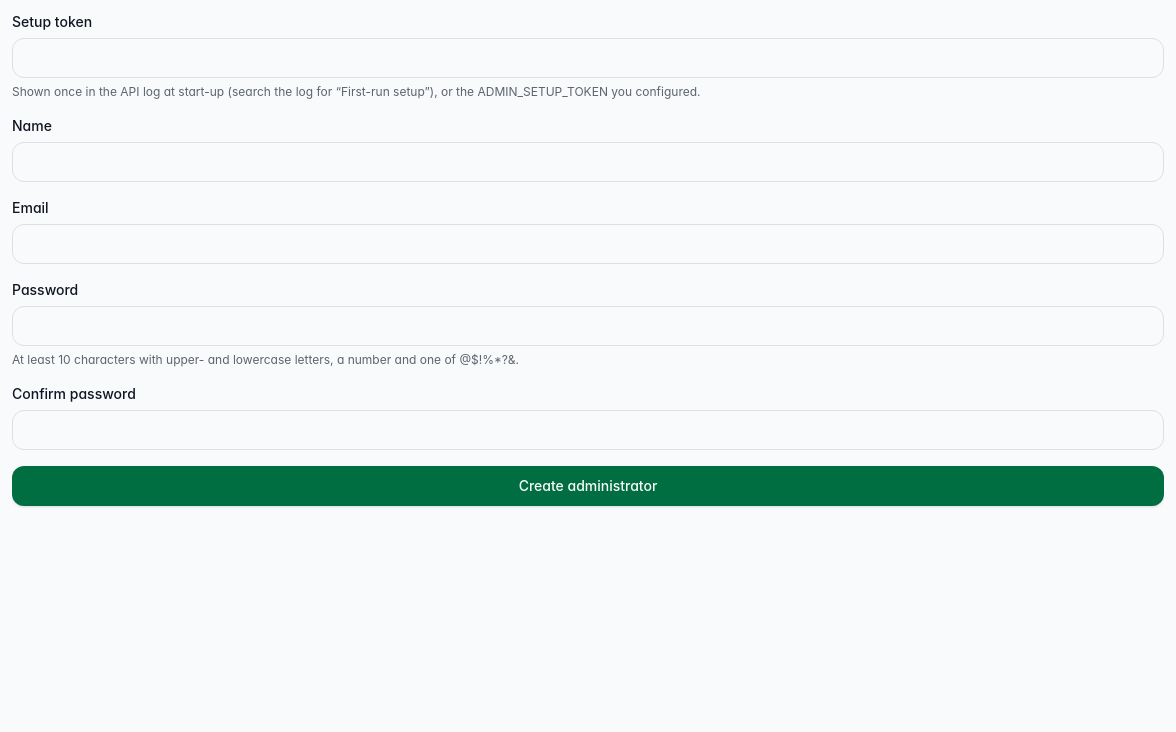
first-run setup › creates the administrator and explains the next step (first sign-in)
Type "the-setup-token-123" into the field labelled "Setup token" at (588, 58), box [12,38,1164,78]
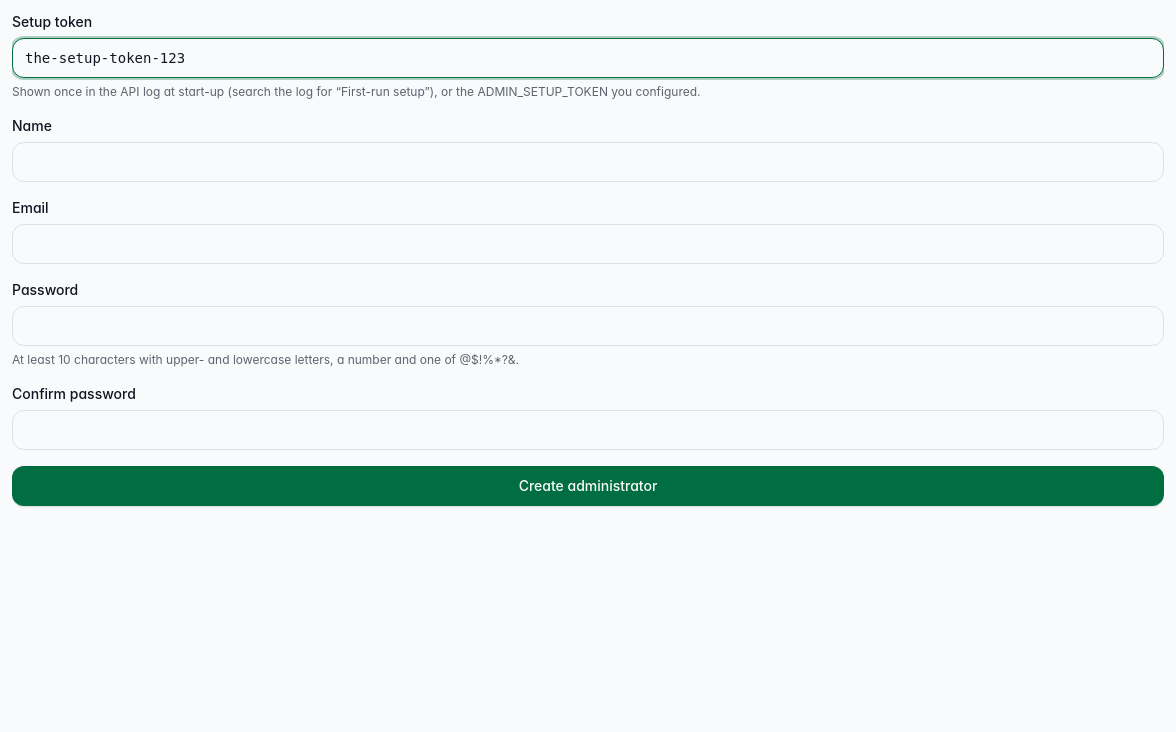
Type "Site Owner" into the field labelled "Name" at (588, 162), box [12,142,1164,182]
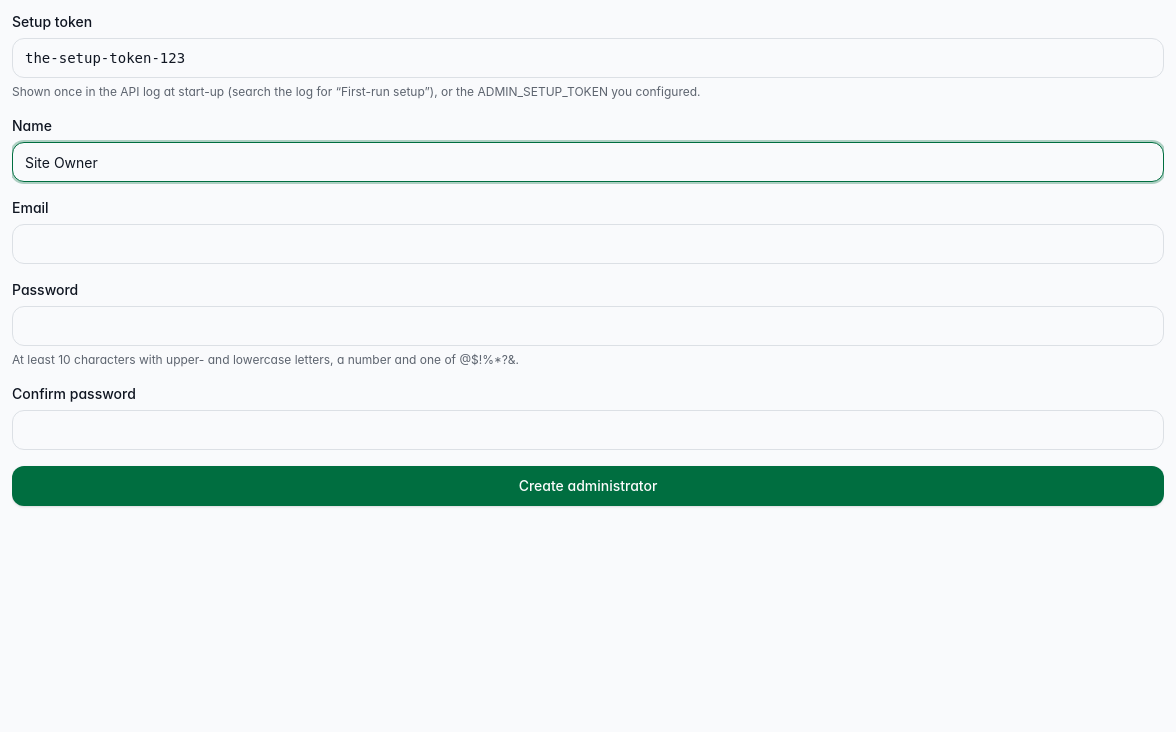
Type "owner@example.com" into the field labelled "Email" at (588, 244), box [12,224,1164,264]
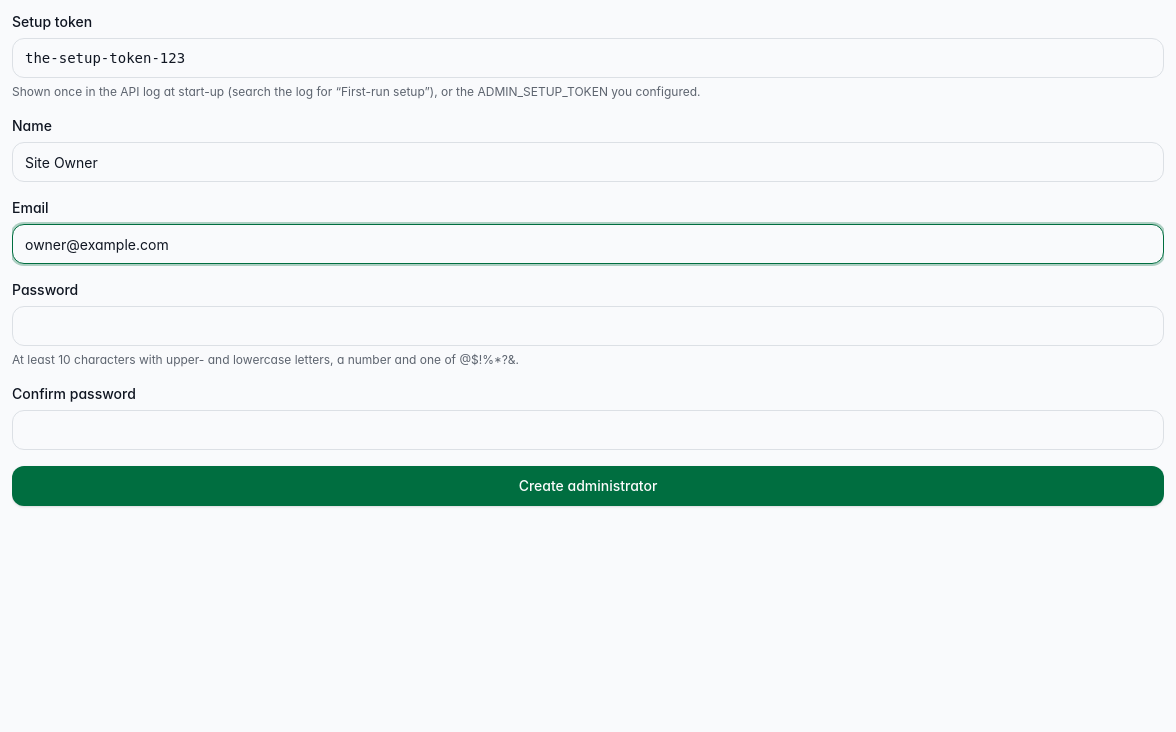
Type "Correct-horse-42!" into the password field labelled "Password" at (588, 326), box [12,306,1164,346]
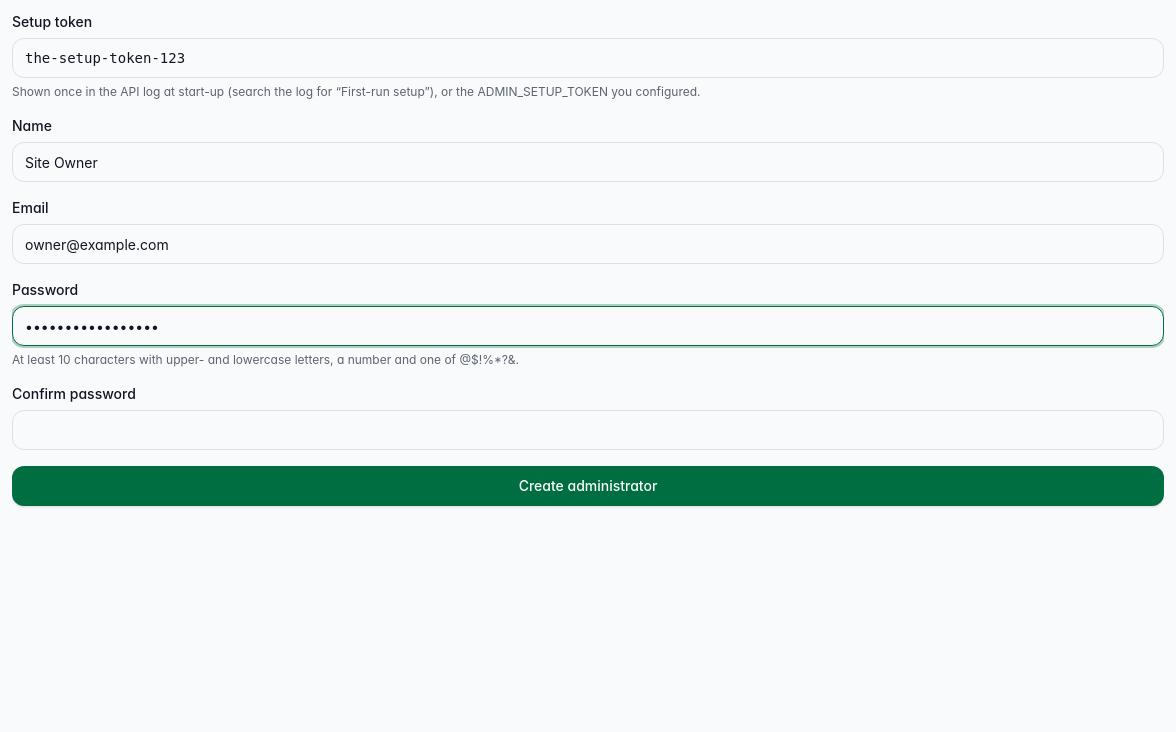
Type "Correct-horse-42!" into the password field labelled "Confirm password" at (588, 430), box [12,410,1164,450]
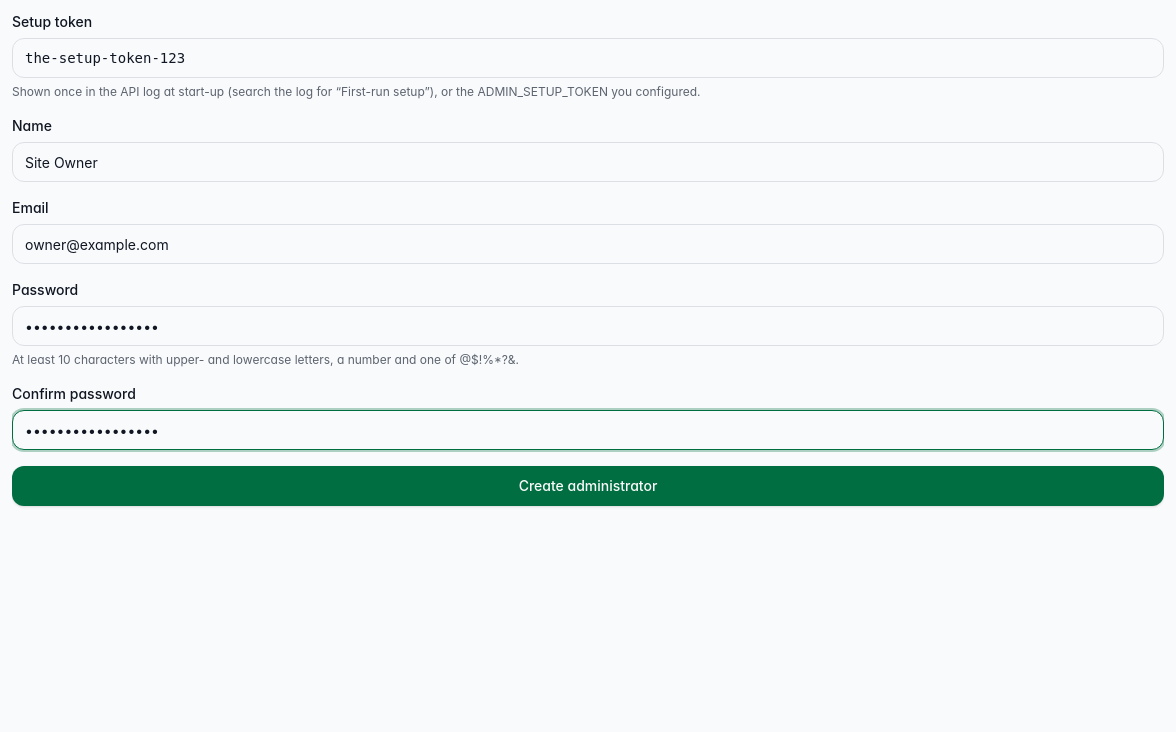
Click the button "Create administrator" at (588, 486), box [12,466,1164,506]
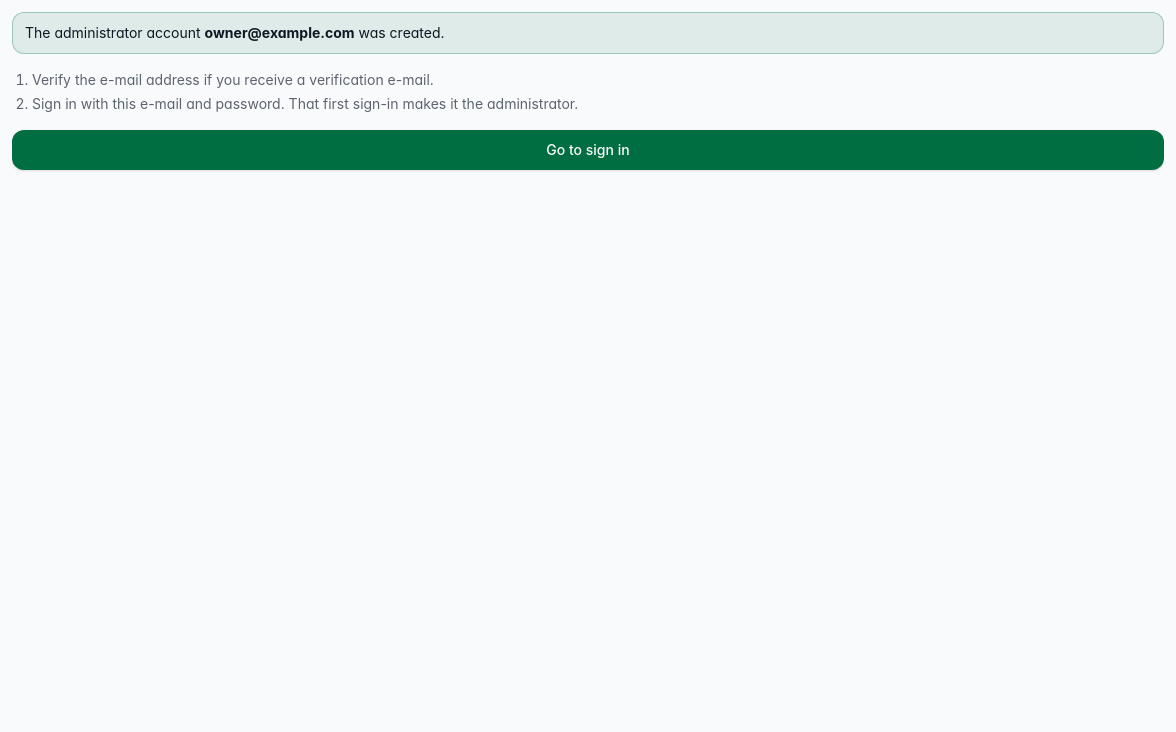
Now the text "The administrator account owner@example.com was created." is shown, box [12,12,1164,54]
